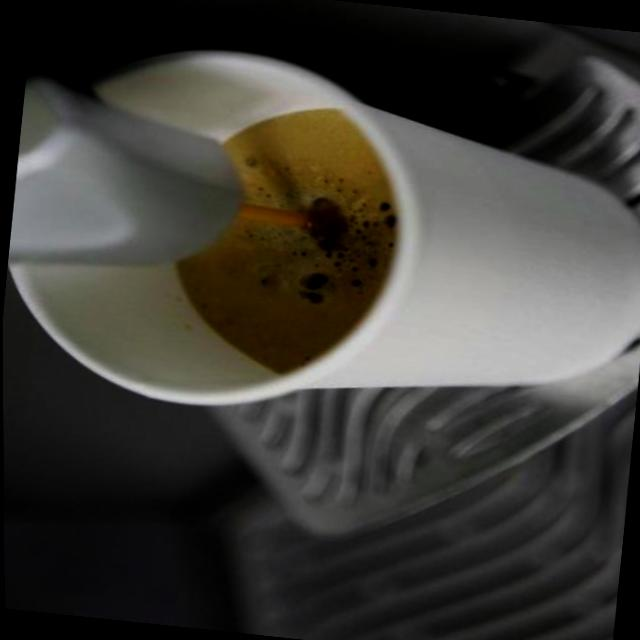Cup: (0, 25, 640, 452)
